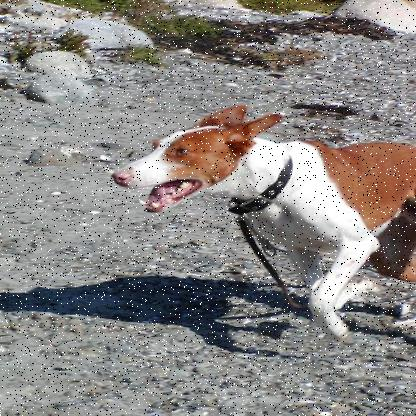dog: (107, 107, 415, 346)
